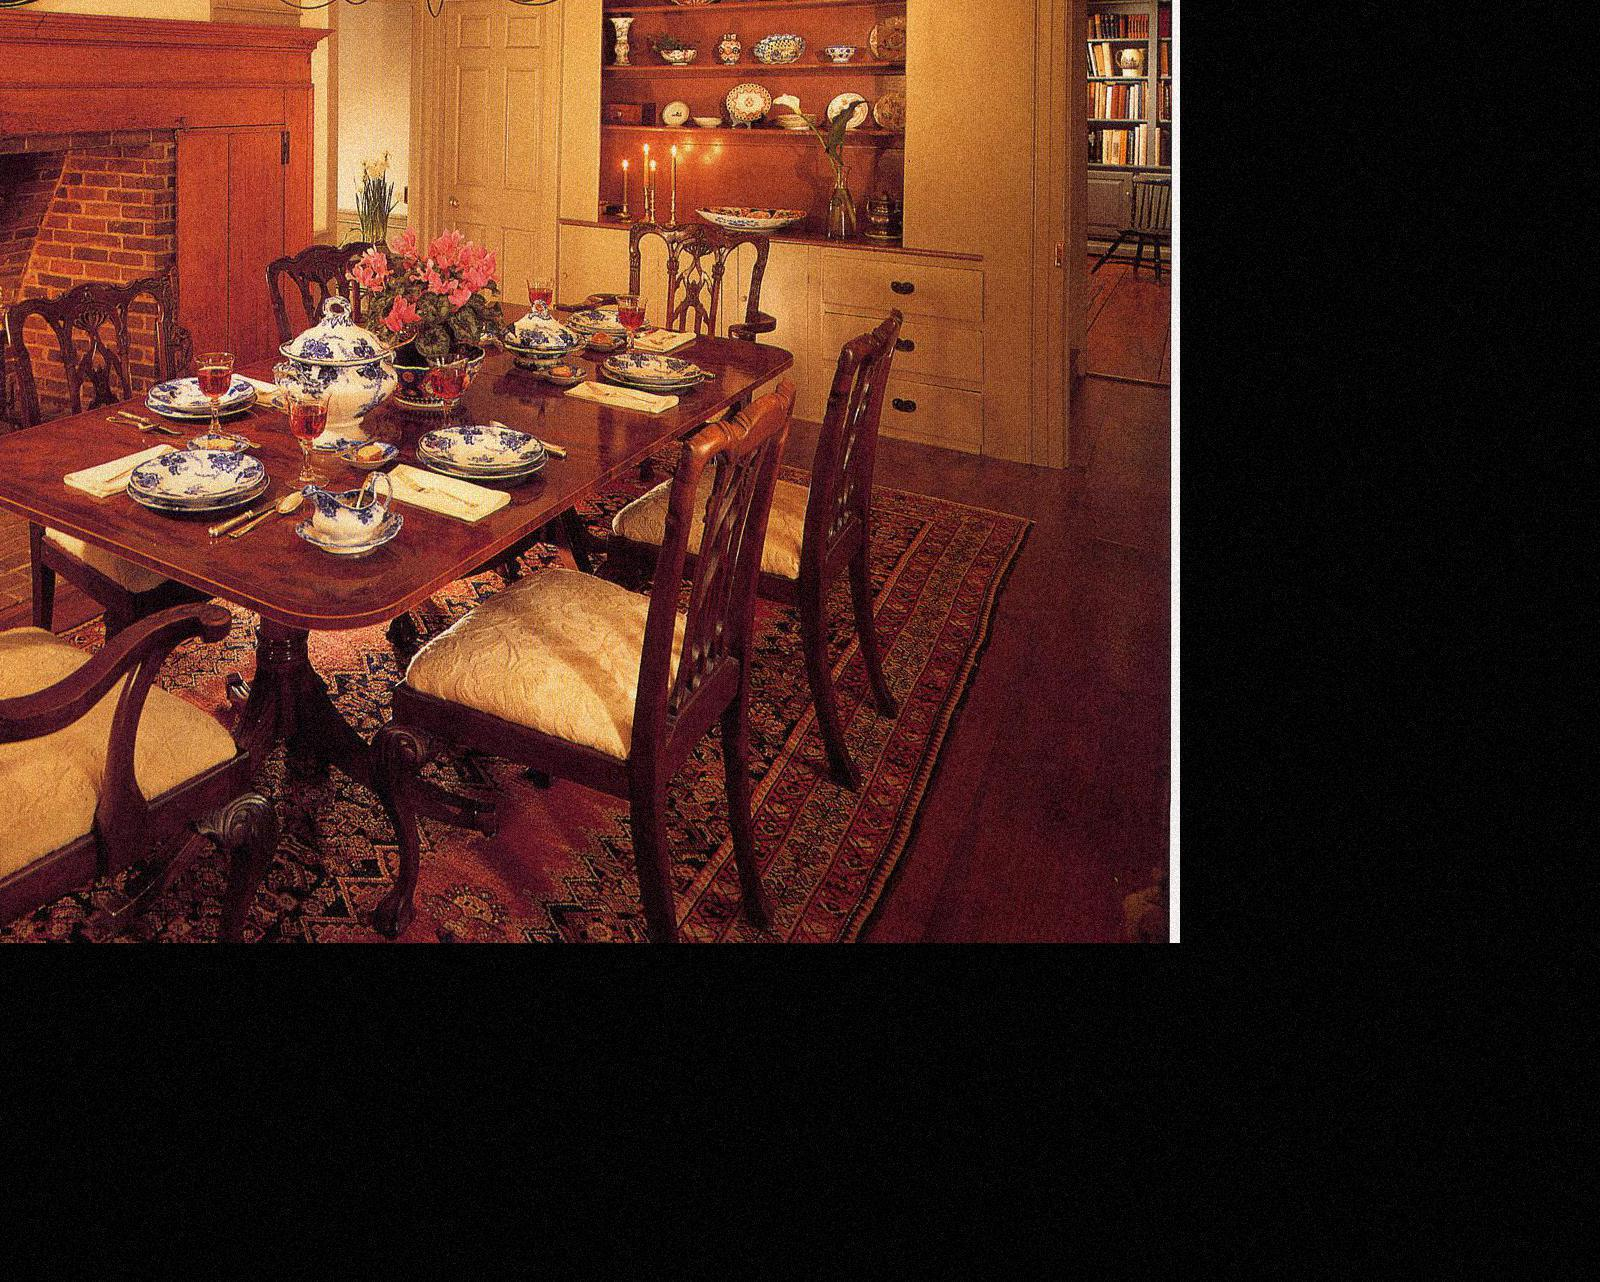Puerta: (423, 0, 556, 293)
